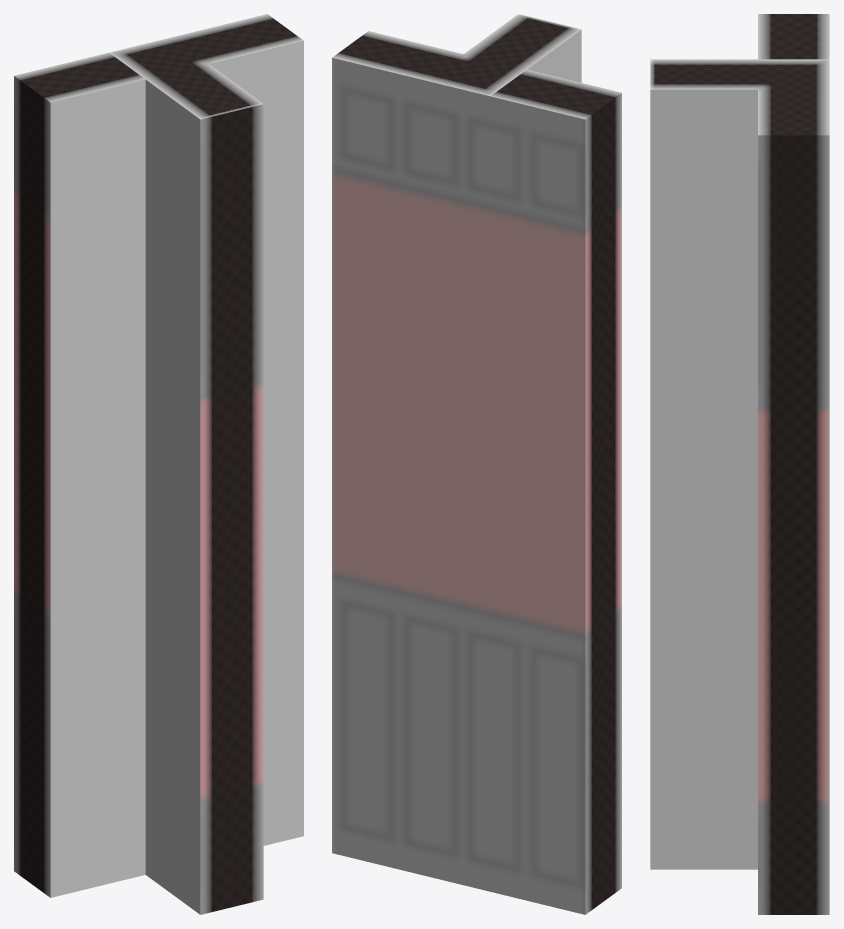
File: Tile_Tri_Corner.fbx
3 views of the same model, side by side, from view 1: azimuth 30°, elevation 25°; view 2: azimuth 150°, elevation 25°; view 3: azimuth 270°, elevation 25° (orthographic). The views are drawn at different scales.
Visible parts, largest first — view 1: Wall_Tri-Corner; view 2: Wall_Tri-Corner; view 3: Wall_Tri-Corner.
Boxes of the visible parts, <box> form: Wall_Tri-Corner: <box>14,14,303,914</box>; Wall_Tri-Corner: <box>332,14,621,914</box>; Wall_Tri-Corner: <box>650,14,829,914</box>.
Bounding box in the file's own units: 200 × 600 × 125.
